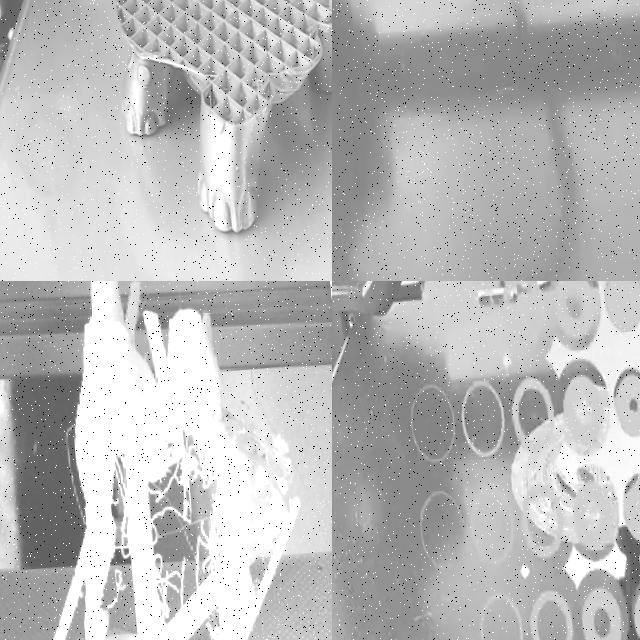spaghetti: (153, 473, 217, 597)
